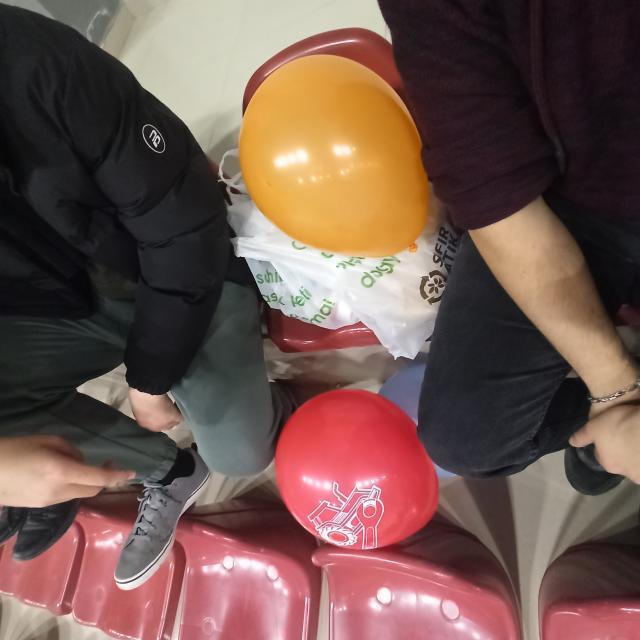balloon: (235, 53, 428, 257), (277, 388, 441, 552)
